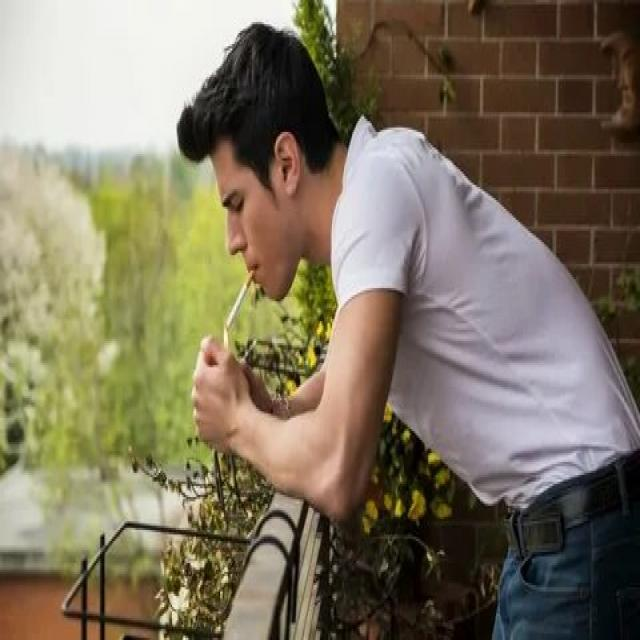smoke: (223, 266, 257, 334)
